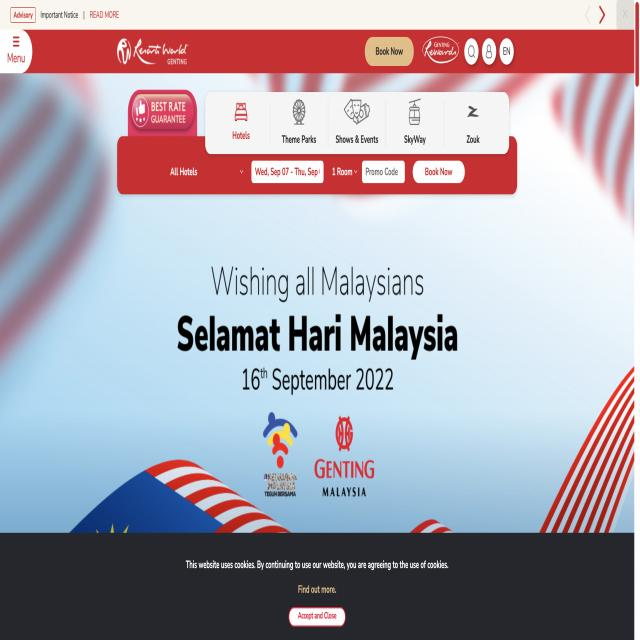Logo: (108, 31, 212, 72)
